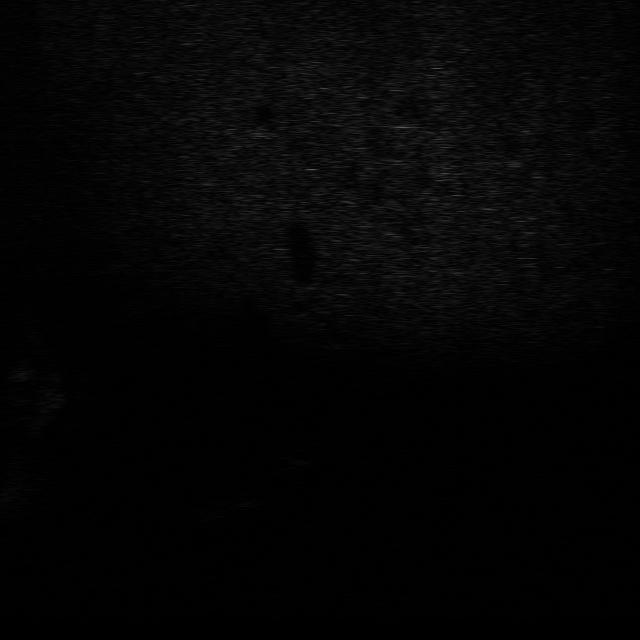ball: (276, 443, 319, 470)
square cage: (192, 494, 276, 524)
